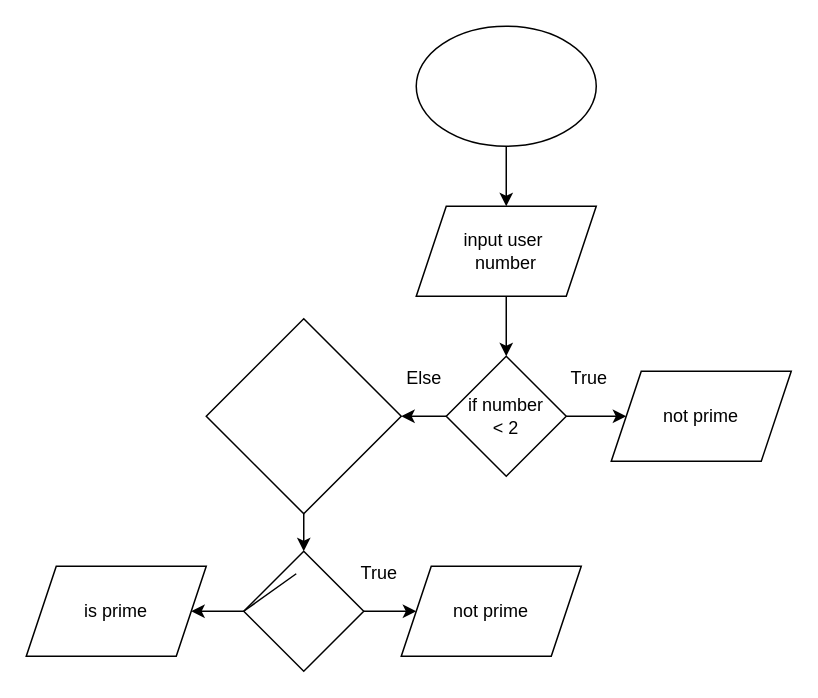
The diagram is 818 pixels wide and 698 high, and some of its shapes have lost their labels. Here are the shapes that lost their labels. From the top down, the centre of each, then its label:
At (505,85): "start".
At (303,415): "for i in range (2, sqrt(number) + 1)".
At (303,610): "if number % i ==0:".
